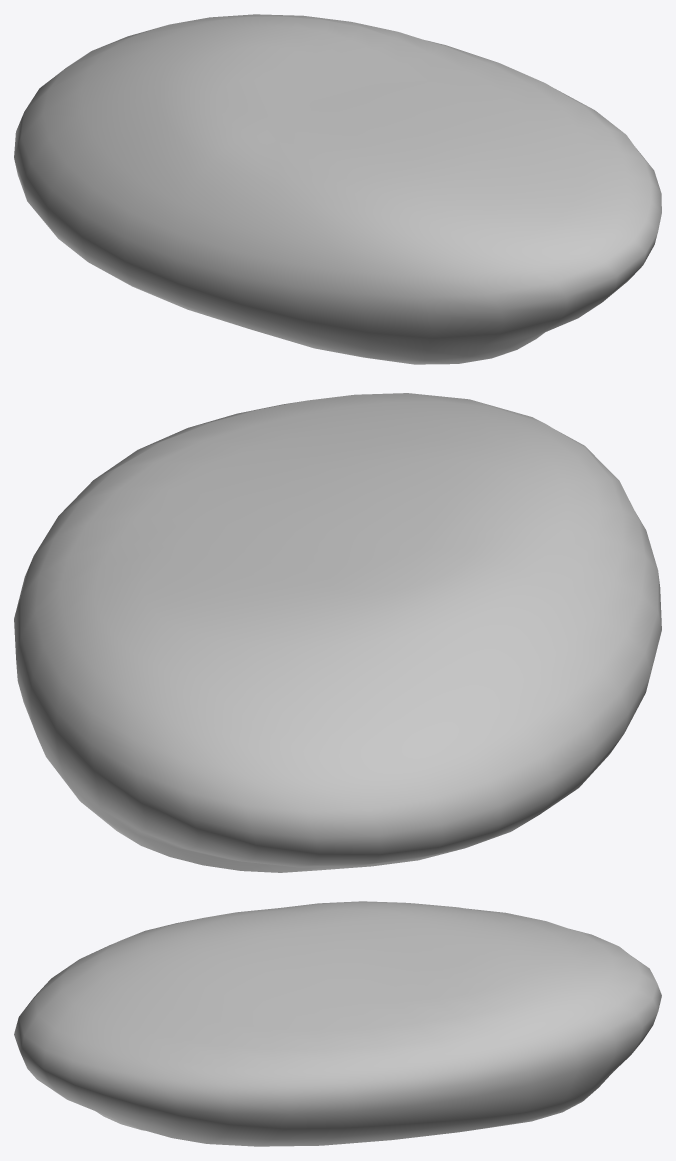
Rendered from RockSmall_1.fbx.
The picture shows the model from 3 angles, top to bottom: view 1: azimuth 30°, elevation 25°; view 2: azimuth 150°, elevation 25°; view 3: azimuth 270°, elevation 25°; orthographic projection. The views are drawn at different scales.
Parts seen in each view (by area): view 1: Sphere; view 2: Sphere; view 3: Sphere.
Boxes of the visible parts, <box> form: Sphere: <box>14,14,661,364</box>; Sphere: <box>14,393,661,872</box>; Sphere: <box>14,901,661,1146</box>.
Size of the model in its own units: 21.58 by 7.75 by 29.32.
